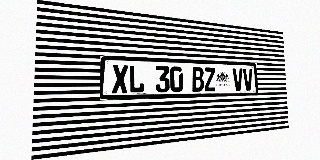0: (170, 66, 183, 92)
3: (155, 66, 170, 93)
B: (192, 67, 204, 92)
L: (129, 65, 144, 93)
V: (232, 68, 243, 91), (243, 69, 253, 91)
X: (112, 64, 128, 93)
Z: (204, 67, 216, 91)
